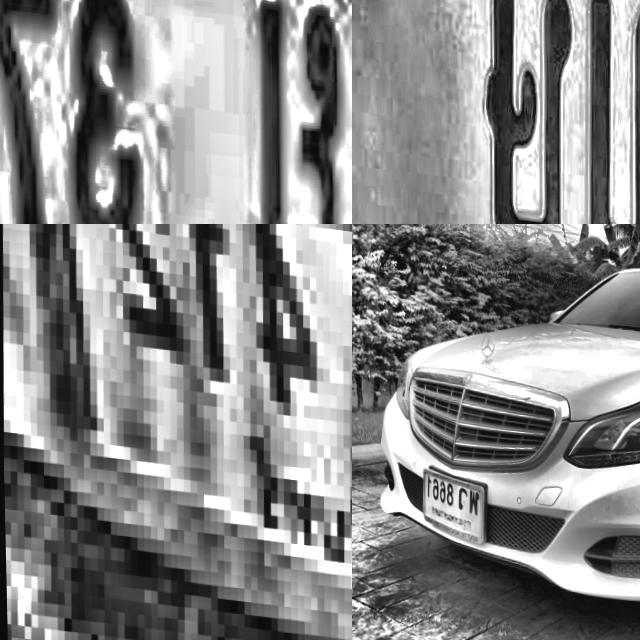license-plate: (0, 224, 352, 640), (0, 0, 352, 224), (352, 0, 640, 224), (414, 462, 485, 544)
